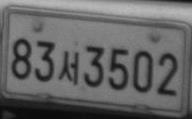0: (132, 49, 153, 93)
2: (156, 51, 178, 96)
3: (34, 40, 55, 82), (83, 45, 104, 87)
5: (108, 48, 129, 89)
8: (10, 37, 32, 79)
서: (58, 50, 79, 85)
